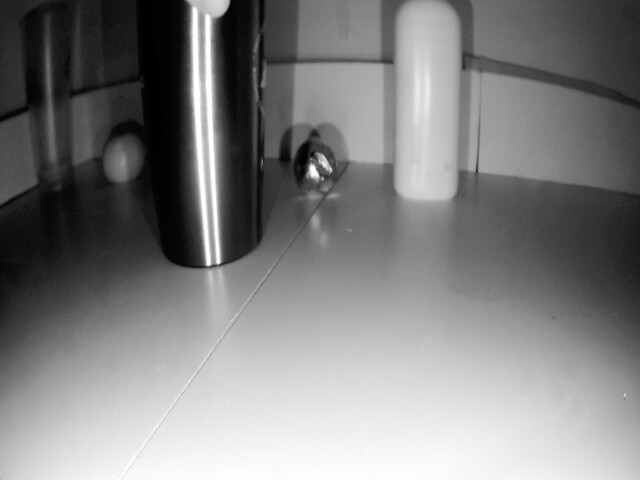black: (295, 137, 351, 200)
